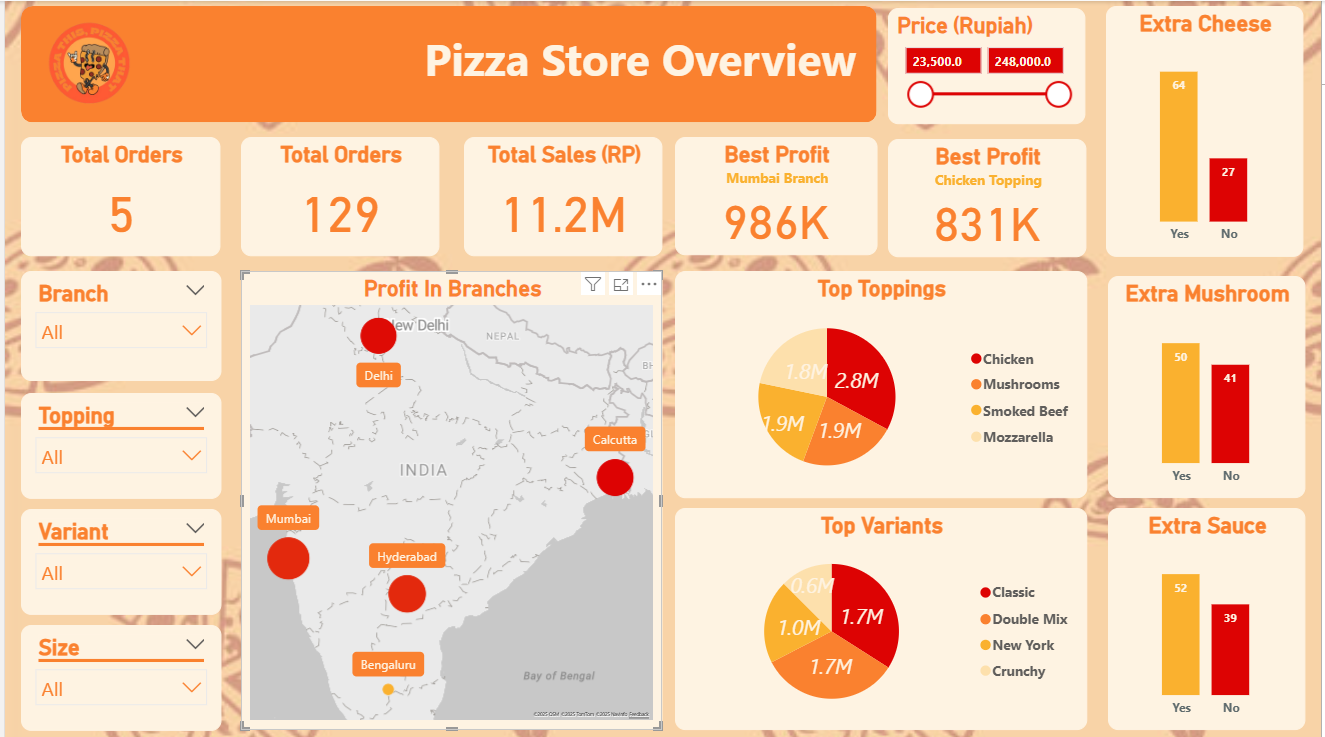

What the dashboard file says about the page in this screenshot:
{"tool":"powerbi","page":{"name":"Overview","canvas":[1280,720],"ordinal":0},"visuals":[{"type":"shape","box":[15.7,4.8,832.4,113.4],"z":0},{"type":"textbox","box":[375.2,22.5,472.9,77.2],"z":1000},{"type":"image","box":[15.1,1.4,133.1,119.4],"z":2000},{"type":"slicer","fields":{"Values":["pizza_mod.Branch"]},"box":[15.7,263,195.4,107.4],"z":3000},{"type":"slicer","fields":{"Values":["pizza_mod.Topping"]},"box":[15.7,380.8,195.4,102.5],"z":4000},{"type":"slicer","title":"Price (Rupiah)","fields":{"Values":["pizza_mod.Price (Rupiah)"]},"box":[859,7.2,191.8,113.4],"z":5000},{"type":"card","title":"Total Sales (RP)","fields":{"Values":["Sum(pizza_mod.Price (Rupiah))"]},"box":[446.4,132.7,193,115.8],"z":6000},{"type":"card","title":"Total Orders","fields":{"Values":["CountNonNull(pizza_mod.Order ID)"]},"box":[229.2,132.7,193,115.8],"z":9000},{"type":"pieChart","title":"Top Toppings","fields":{"Category":["pizza_mod.Topping"],"Y":["Sum(pizza_mod.Price (Rupiah))"]},"box":[651.5,263,400.5,220.8],"z":10000},{"type":"pieChart","title":"Top Variants","fields":{"Category":["pizza_mod.Variant"],"Y":["Sum(pizza_mod.Price (Rupiah))"]},"box":[651.5,493.4,400.5,216],"z":11000},{"type":"clusteredColumnChart","title":"Extra Cheese","fields":{"Category":["pizza_mod.Extra Cheese"],"Y":["CountNonNull(pizza_mod.Extra Cheese)"]},"box":[1071.3,4.8,191.8,243.7],"z":12000},{"type":"columnChart","title":"Extra Mushroom","fields":{"Category":["pizza_mod.Extra Mushrooms"],"Series":["pizza_mod.Extra Mushrooms"],"Y":["CountNonNull(pizza_mod.Extra Mushrooms)"]},"box":[1072.5,267.8,191.8,216],"z":13000},{"type":"columnChart","title":"Extra Sauce","fields":{"Category":["pizza_mod.Extra Sauce"],"Y":["CountNonNull(pizza_mod.Extra Sauce)"]},"box":[1072.5,493.4,191.8,216],"z":14000},{"type":"azureMap","title":"Profit In Branches","fields":{"Category":["pizza_mod.Branch"],"Size":["Sum(pizza_mod.Profit (Rupiah))"]},"box":[229.2,263,410.2,446.4],"z":15000},{"type":"slicer","fields":{"Values":["pizza_mod.Size"]},"box":[15.7,606.8,195.4,102.5],"z":16000},{"type":"slicer","fields":{"Values":["pizza_mod.Variant"]},"box":[15.7,493.8,195.4,102.5],"z":17000},{"type":"card","title":"Best Profit","fields":{"Values":["Sum(pizza_mod.Profit (Rupiah))"]},"box":[651.5,132.7,196.6,114.6],"z":18000},{"type":"card","title":"Best Profit","fields":{"Values":["Sum(pizza_mod.Profit (Rupiah))"]},"box":[859,133.9,193,114.6],"z":19000},{"type":"card","title":"Total Orders","fields":{"Values":["Count(pizza_mod.Branch)"]},"box":[15.7,132.7,194.2,115.8],"z":20000}]}

Visuals, with their boxes in screenshot pixels (x1, y1, x2, y2), scaled from the page's 1280x720 canvas onto the 1325x737 screenshot:
shape: pyautogui.locateOnScreen(16, 5, 878, 121)
textbox: pyautogui.locateOnScreen(388, 23, 878, 102)
image: pyautogui.locateOnScreen(16, 1, 153, 124)
slicer - pizza_mod.Branch: pyautogui.locateOnScreen(16, 269, 219, 379)
slicer - pizza_mod.Topping: pyautogui.locateOnScreen(16, 390, 219, 495)
"Price (Rupiah)" slicer: pyautogui.locateOnScreen(889, 7, 1088, 123)
"Total Sales (RP)" card: pyautogui.locateOnScreen(462, 136, 662, 254)
"Total Orders" card: pyautogui.locateOnScreen(237, 136, 437, 254)
"Top Toppings" pieChart: pyautogui.locateOnScreen(674, 269, 1089, 495)
"Top Variants" pieChart: pyautogui.locateOnScreen(674, 505, 1089, 726)
"Extra Cheese" clusteredColumnChart: pyautogui.locateOnScreen(1109, 5, 1308, 254)
"Extra Mushroom" columnChart: pyautogui.locateOnScreen(1110, 274, 1309, 495)
"Extra Sauce" columnChart: pyautogui.locateOnScreen(1110, 505, 1309, 726)
"Profit In Branches" azureMap: pyautogui.locateOnScreen(237, 269, 662, 726)
slicer - pizza_mod.Size: pyautogui.locateOnScreen(16, 621, 219, 726)
slicer - pizza_mod.Variant: pyautogui.locateOnScreen(16, 505, 219, 610)
"Best Profit" card: pyautogui.locateOnScreen(674, 136, 878, 253)
"Best Profit" card: pyautogui.locateOnScreen(889, 137, 1089, 254)
"Total Orders" card: pyautogui.locateOnScreen(16, 136, 217, 254)
